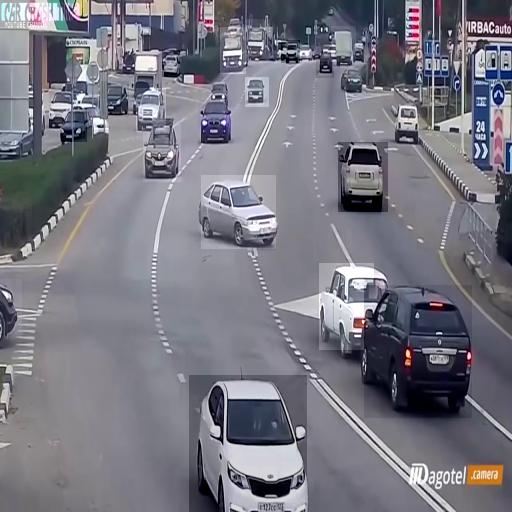小汽车: (189, 375, 307, 512), (364, 285, 472, 418), (201, 175, 276, 249), (319, 263, 374, 350), (338, 142, 388, 212), (143, 124, 181, 182), (198, 100, 232, 145), (0, 279, 22, 347), (136, 88, 166, 132), (220, 27, 246, 74), (50, 84, 76, 129), (393, 103, 421, 143), (101, 81, 129, 117), (246, 19, 270, 61), (60, 108, 87, 142), (331, 26, 356, 62), (340, 64, 366, 96), (246, 78, 270, 108), (162, 50, 180, 77), (316, 51, 334, 78), (281, 40, 300, 63)
